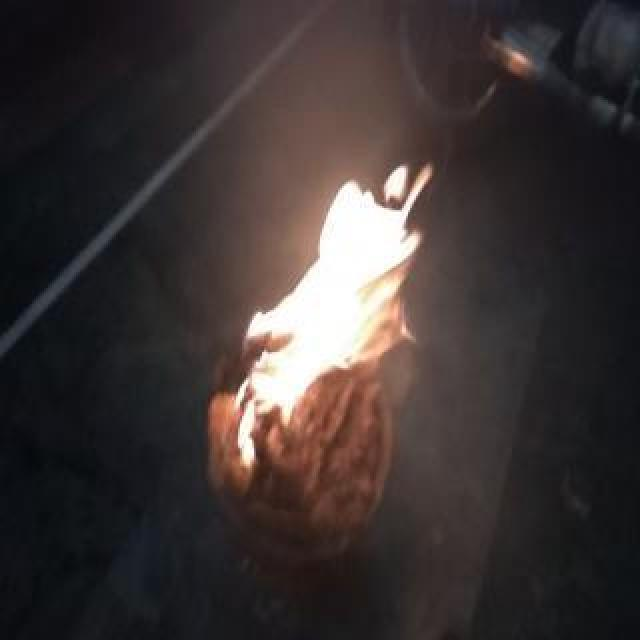Fire: (239, 162, 431, 476)
